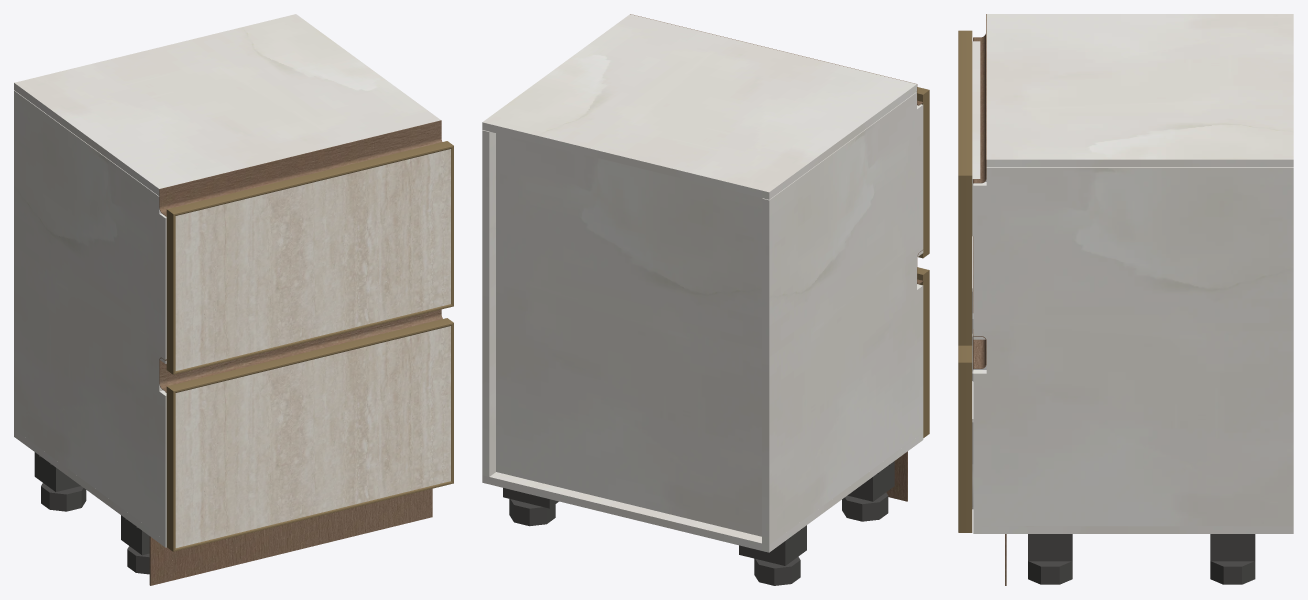
File: BC-DW-CJ-ST-2HB-1BL-XXX-600-720-560-15.glb
3 views of the same model, side by side, from view 1: azimuth 30°, elevation 25°; view 2: azimuth 150°, elevation 25°; view 3: azimuth 270°, elevation 25° (orthographic). The views are drawn at different scales.
Visible parts, largest first — view 1: TP_node, Object_node_81, Object_node_83, TP_node_1, Object_node_85, ExtrSplGeo, ExtrSplGeo_node, Extrusion_node_2, Extrusion, Extrusion_node_1, Extrusion_node_5, TP (+5 smaller); view 2: TP_node_9, TP_node, TP_node_1, TP, TP_node_0, Extrusion_node_5, Extrusion_node_1, Plate, Foot, Foot_node_0, Foot_node, Plate_node_0 (+1 smaller); view 3: TP_node_0, TP_node_1, TP, Extrusion_node, Extrusion_node_3, Extrusion_node_2, TP_node_8, Plate_node, Plate_node_1, ExtrSplGeo, Foot_node, Foot_node_1 (+1 smaller).
Boxes of the visible parts, x1=… form: TP_node: x1=14, y1=90, x2=166, y2=540; Object_node_81: x1=175, y1=326, x2=450, y2=547; Object_node_83: x1=175, y1=149, x2=450, y2=370; TP_node_1: x1=14, y1=14, x2=440, y2=195; Object_node_85: x1=149, y1=488, x2=432, y2=585; ExtrSplGeo: x1=159, y1=120, x2=442, y2=216; ExtrSplGeo_node: x1=159, y1=309, x2=442, y2=392; Extrusion_node_2: x1=167, y1=141, x2=453, y2=215; Extrusion: x1=167, y1=318, x2=453, y2=392; Extrusion_node_1: x1=166, y1=386, x2=175, y2=551; Extrusion_node_5: x1=166, y1=209, x2=175, y2=374; TP: x1=14, y1=429, x2=166, y2=547; TP_node_9: x1=496, y1=133, x2=762, y2=536; TP_node: x1=762, y1=92, x2=923, y2=544; TP_node_1: x1=482, y1=14, x2=916, y2=199; TP: x1=482, y1=433, x2=923, y2=552; TP_node_0: x1=482, y1=130, x2=495, y2=476; Extrusion_node_5: x1=917, y1=90, x2=929, y2=258; Extrusion_node_1: x1=918, y1=270, x2=929, y2=437; Plate: x1=739, y1=525, x2=806, y2=565; Foot: x1=754, y1=556, x2=800, y2=585; Foot_node_0: x1=842, y1=492, x2=888, y2=521; Foot_node: x1=509, y1=499, x2=555, y2=526; Plate_node_0: x1=847, y1=461, x2=894, y2=501; TP_node_0: x1=973, y1=167, x2=1293, y2=526; TP_node_1: x1=986, y1=14, x2=1293, y2=167; TP: x1=973, y1=526, x2=1293, y2=533; Extrusion_node: x1=958, y1=362, x2=972, y2=532; Extrusion_node_3: x1=958, y1=175, x2=972, y2=345; Extrusion_node_2: x1=958, y1=30, x2=972, y2=175; TP_node_8: x1=972, y1=41, x2=980, y2=236; Plate_node: x1=1210, y1=534, x2=1255, y2=561; Plate_node_1: x1=1028, y1=534, x2=1072, y2=561; ExtrSplGeo: x1=973, y1=14, x2=986, y2=183; Foot_node: x1=1210, y1=561, x2=1255, y2=584; Foot_node_1: x1=1028, y1=561, x2=1072, y2=584.
Size of what is drawn, in the model's own units: 0.6 by 0.82 by 0.5842.
Materials: 7 (3 with a texture image).
